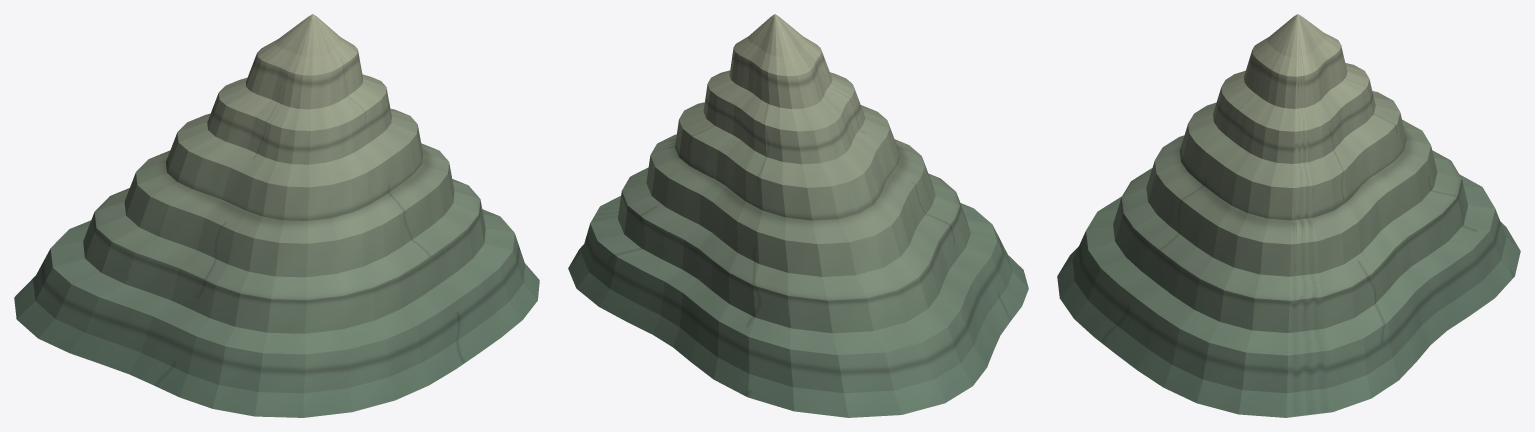
Rendered from strata_mountain.glb.
3 views of the same model, side by side, from view 1: azimuth 30°, elevation 25°; view 2: azimuth 150°, elevation 25°; view 3: azimuth 270°, elevation 25° (orthographic). The views are drawn at different scales.
Visible parts, largest first — view 1: StrataMountain; view 2: StrataMountain; view 3: StrataMountain.
Boxes of the visible parts, x1,y1,x2,y2 form: StrataMountain: (14, 14, 539, 417); StrataMountain: (568, 14, 1028, 417); StrataMountain: (1057, 14, 1520, 417).
Size of the model in its own units: 1.58 by 1 by 1.39.
1 material, 1 textured.
